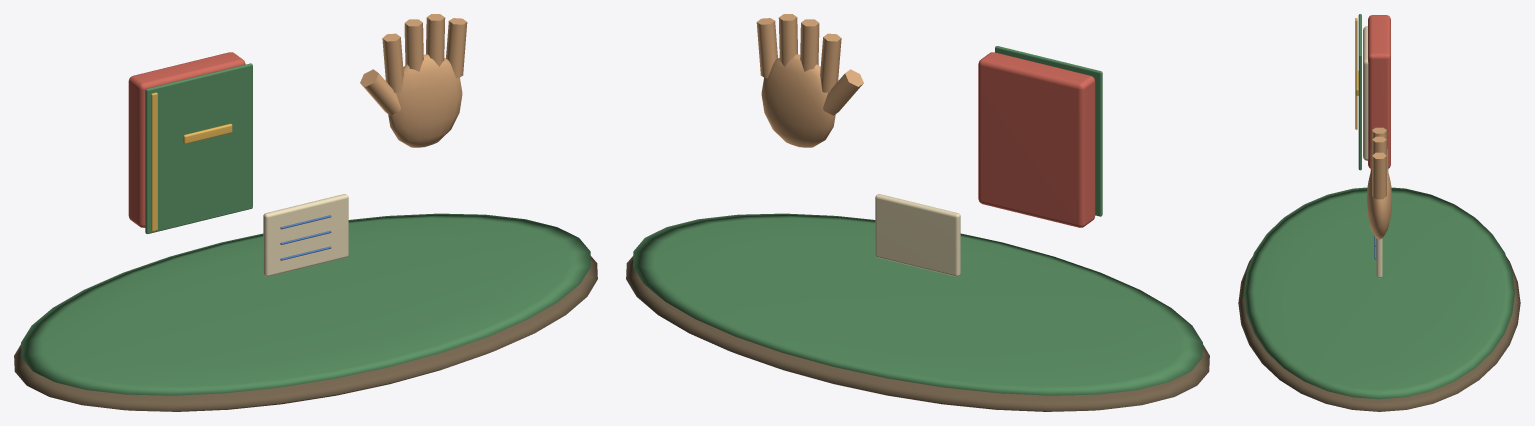
The model's file is complete-first-remember-retrieve.glb.
3 renders of one model, left to right at view 1: azimuth 30°, elevation 25°; view 2: azimuth 150°, elevation 25°; view 3: azimuth 270°, elevation 25°, orthographic. The views are drawn at different scales.
Visible parts, largest first — view 1: complete-first-remember-retrieve_surface_01, complete-first-remember-retrieve_surface_00, complete-first-remember-retrieve_surface_05, complete-first-remember-retrieve_surface_03, complete-first-remember-retrieve_surface_02, complete-first-remember-retrieve_surface_04; view 2: complete-first-remember-retrieve_surface_01, complete-first-remember-retrieve_surface_02, complete-first-remember-retrieve_surface_00, complete-first-remember-retrieve_surface_05, complete-first-remember-retrieve_surface_03; view 3: complete-first-remember-retrieve_surface_01, complete-first-remember-retrieve_surface_00, complete-first-remember-retrieve_surface_02, complete-first-remember-retrieve_surface_05, complete-first-remember-retrieve_surface_03, complete-first-remember-retrieve_surface_04.
Boxes of the visible parts, left/top/right/bottom form: complete-first-remember-retrieve_surface_01: left=21, top=63, right=590, bottom=395; complete-first-remember-retrieve_surface_00: left=14, top=256, right=597, bottom=411; complete-first-remember-retrieve_surface_05: left=360, top=14, right=467, bottom=147; complete-first-remember-retrieve_surface_03: left=263, top=194, right=348, bottom=276; complete-first-remember-retrieve_surface_02: left=128, top=52, right=245, bottom=227; complete-first-remember-retrieve_surface_04: left=151, top=92, right=232, bottom=231; complete-first-remember-retrieve_surface_01: left=633, top=46, right=1202, bottom=395; complete-first-remember-retrieve_surface_02: left=978, top=52, right=1095, bottom=227; complete-first-remember-retrieve_surface_00: left=626, top=256, right=1209, bottom=411; complete-first-remember-retrieve_surface_05: left=756, top=14, right=863, bottom=147; complete-first-remember-retrieve_surface_03: left=875, top=194, right=960, bottom=276; complete-first-remember-retrieve_surface_01: left=1244, top=14, right=1514, bottom=399; complete-first-remember-retrieve_surface_00: left=1238, top=257, right=1520, bottom=411; complete-first-remember-retrieve_surface_02: left=1368, top=15, right=1390, bottom=168; complete-first-remember-retrieve_surface_05: left=1366, top=127, right=1392, bottom=239; complete-first-remember-retrieve_surface_03: left=1363, top=26, right=1382, bottom=278; complete-first-remember-retrieve_surface_04: left=1355, top=18, right=1358, bottom=129.
Bounding box in the file's own units: 4.56 × 2.31 × 2.5.
